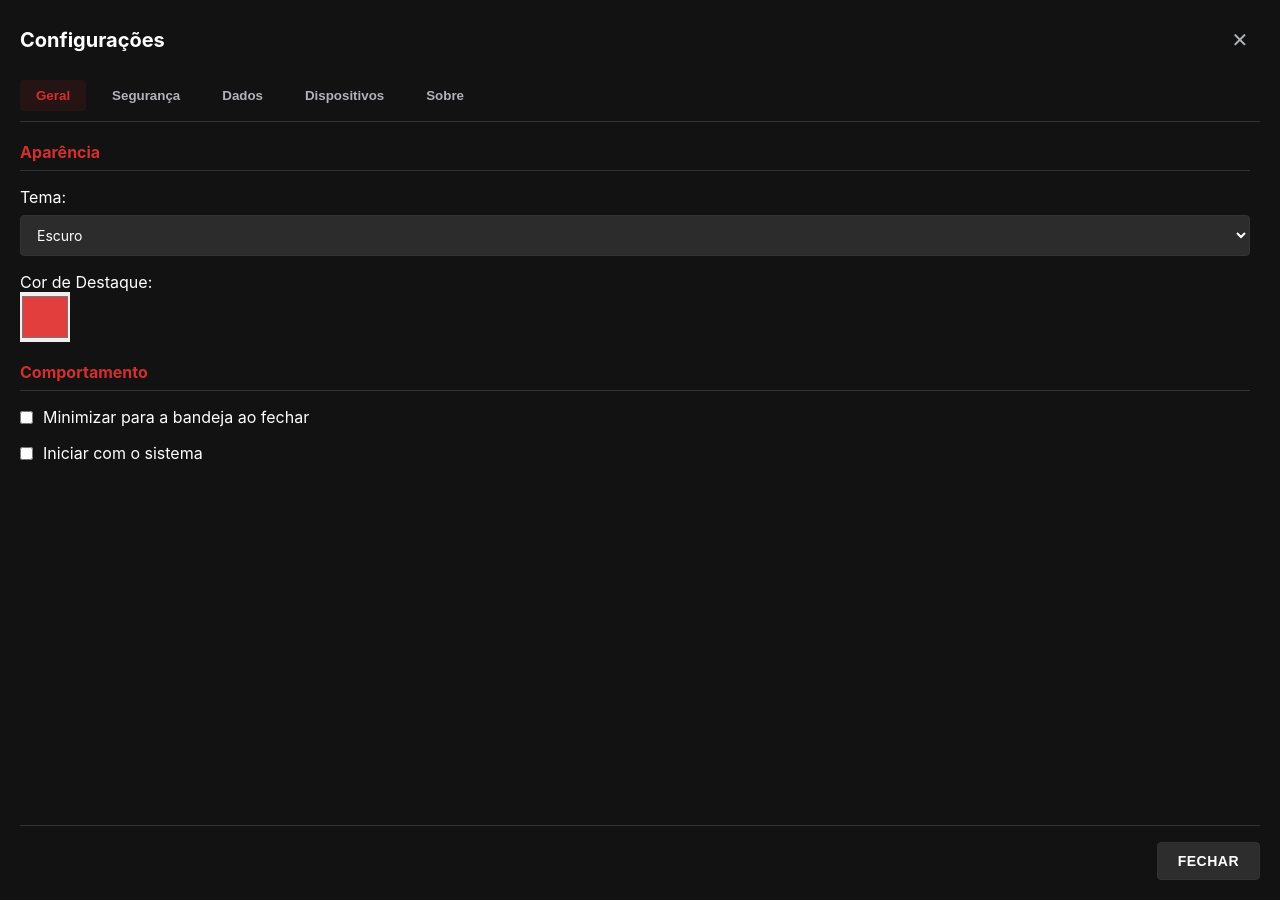
Test: Settings › switches to Devices tab and verifies local storage message
The width and height of the screenshot is (1280, 900).
Click the button "Dispositivos" at point(345, 96), box [289,80,400,111]
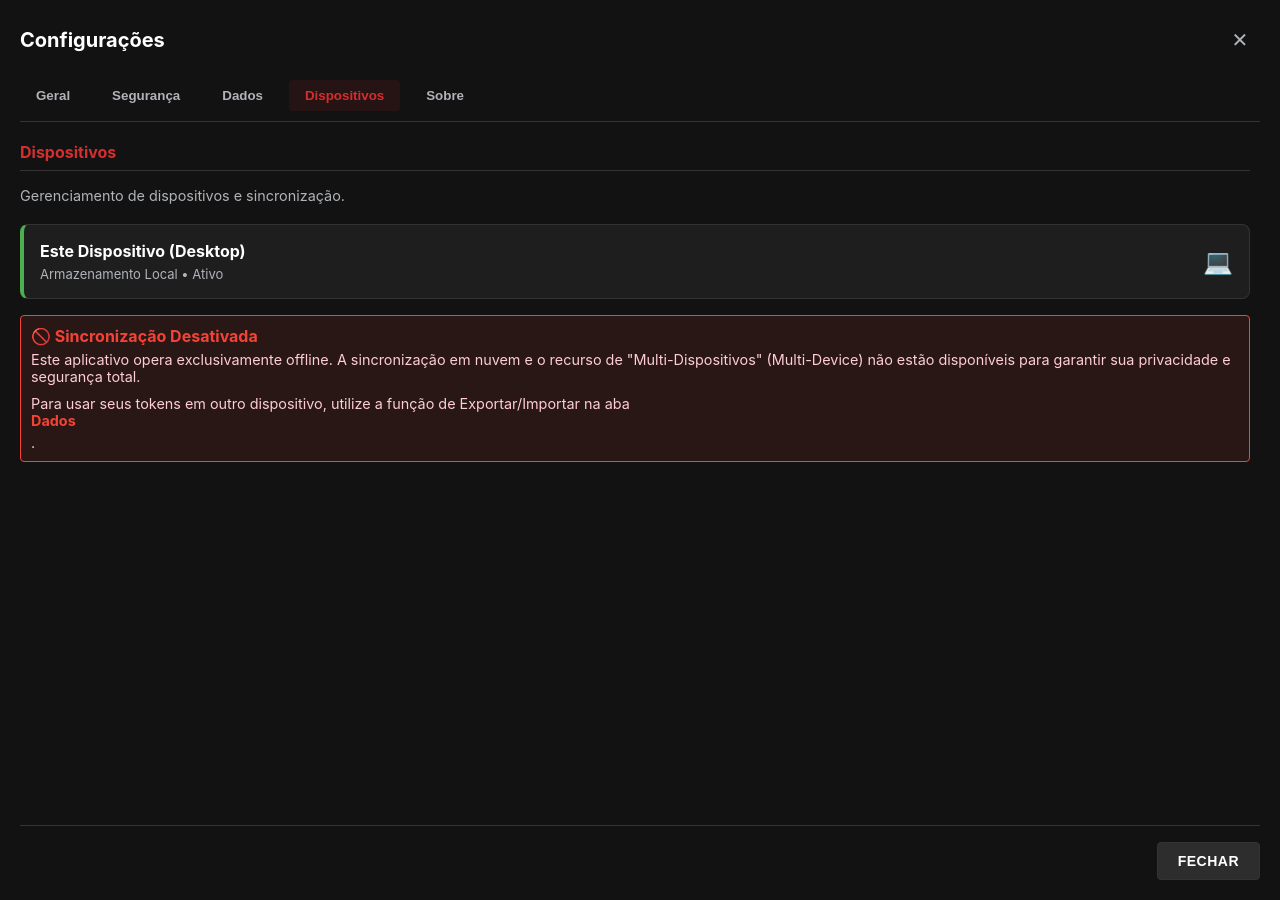
Now the heading "Este Dispositivo (Desktop)" is shown, box [40,241,246,261]
Now the text "🚫 Sincronização Desativada" is shown, box [31,326,258,346]
Now the text "Este aplicativo opera exclusivamente offline" is shown, box [31,351,1231,385]
